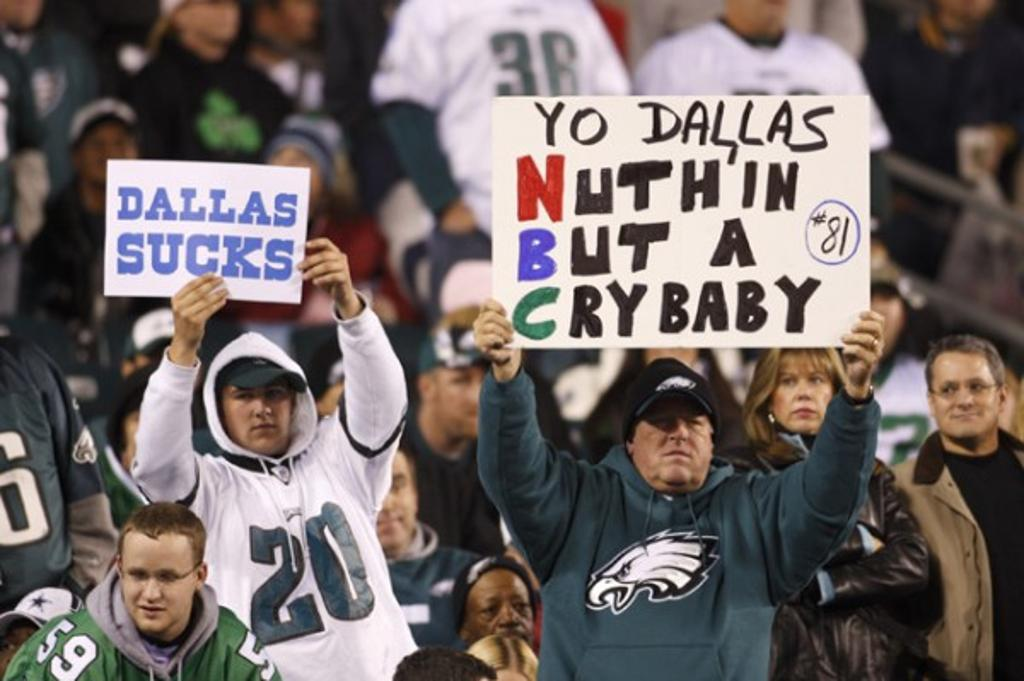face: (118, 528, 192, 632), (636, 388, 710, 490), (222, 360, 294, 450), (470, 564, 538, 656), (772, 352, 840, 438), (930, 352, 996, 436), (354, 460, 416, 544), (438, 356, 498, 440), (76, 112, 132, 184)
